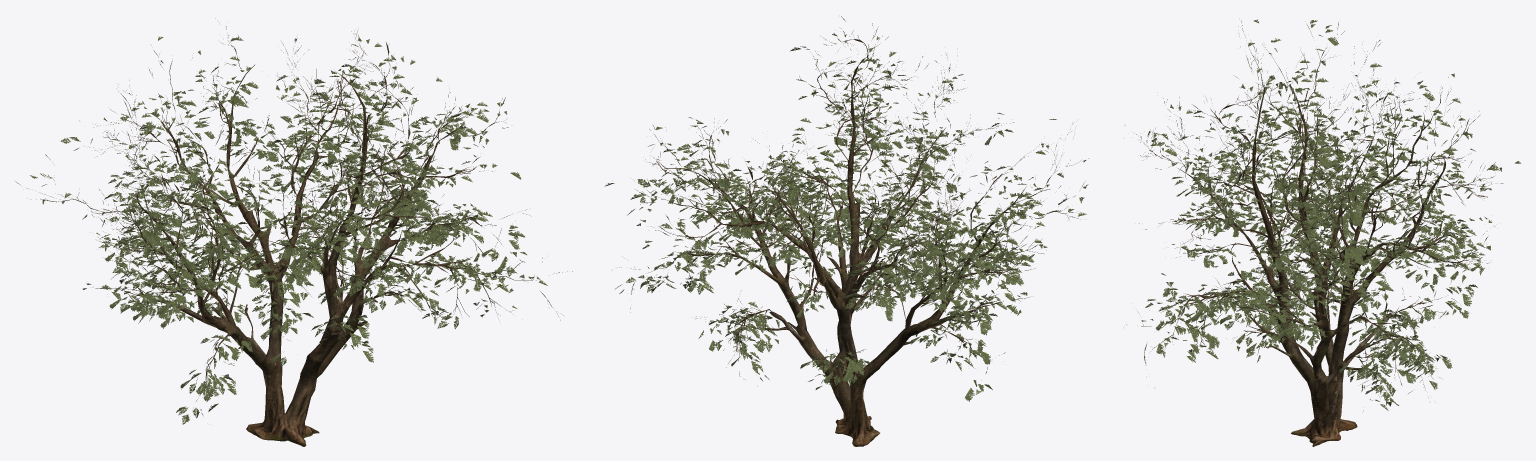
Rendered from jacaranda.glb.
3 renders of one model, left to right at view 1: azimuth 30°, elevation 25°; view 2: azimuth 150°, elevation 25°; view 3: azimuth 270°, elevation 25°, orthographic. The views are drawn at different scales.
Parts seen in each view (by area): view 1: LOD0; view 2: LOD0; view 3: LOD0.
Part boxes in pixels (x1,y1,x2,y2): LOD0: (15,18,572,446); LOD0: (604,16,1088,446); LOD0: (1125,19,1520,446).
Size of what is drawn, in the model's own units: 23.49 by 19.33 by 18.21.
Materials: 3 (3 with a texture image).
